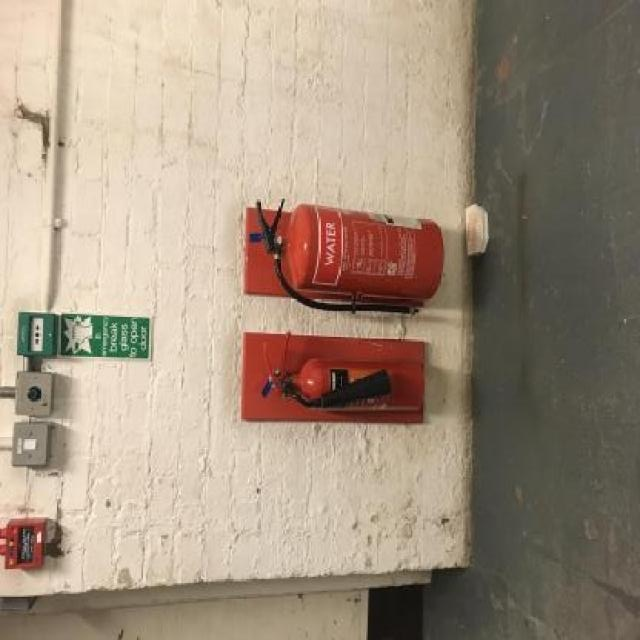fire extinguisher: (256, 198, 444, 314), (262, 331, 427, 412)
